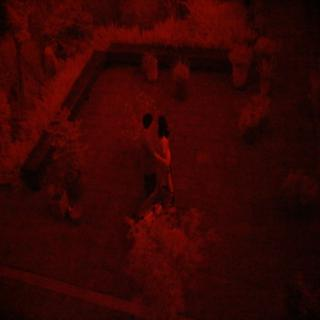person: (151, 108, 178, 208), (133, 107, 157, 201)
